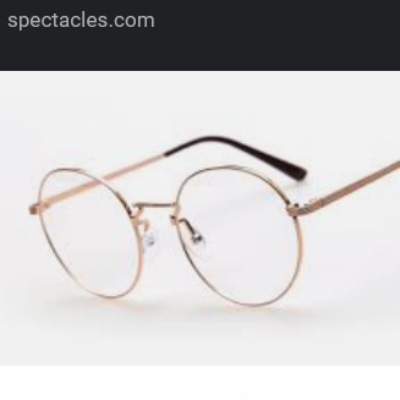glasses: (28, 133, 400, 317)
